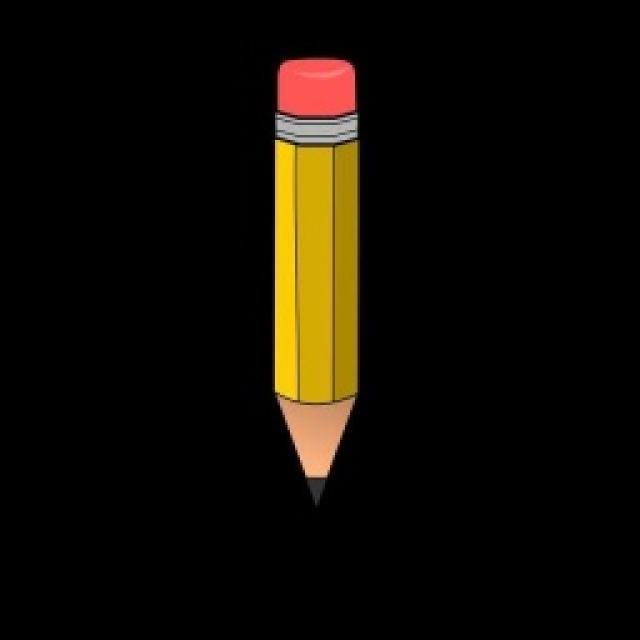pencil: (268, 52, 362, 502)
